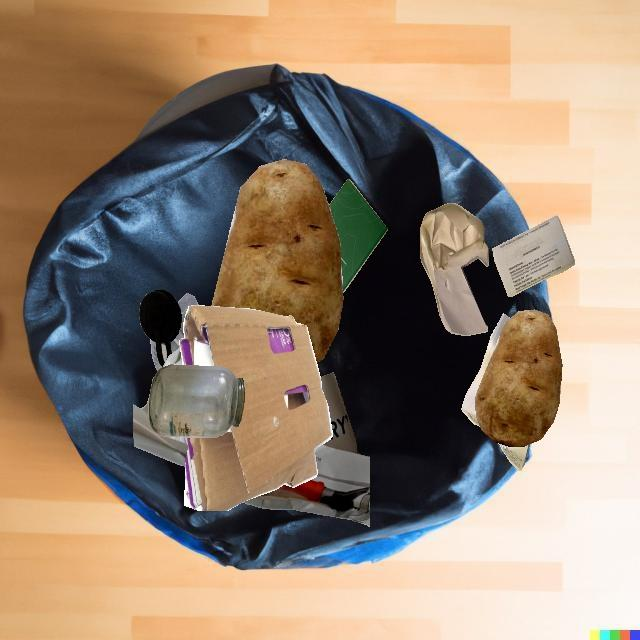biowaste: (211, 159, 343, 363), (475, 309, 562, 447)
cardboard: (179, 305, 332, 511)
glass: (148, 365, 245, 438)
paper: (242, 372, 370, 527), (420, 203, 489, 336), (329, 179, 388, 294), (492, 216, 574, 297), (461, 313, 510, 427), (156, 367, 185, 437), (498, 443, 530, 471)
plastic: (139, 290, 182, 367), (170, 293, 199, 354), (150, 339, 163, 371)
